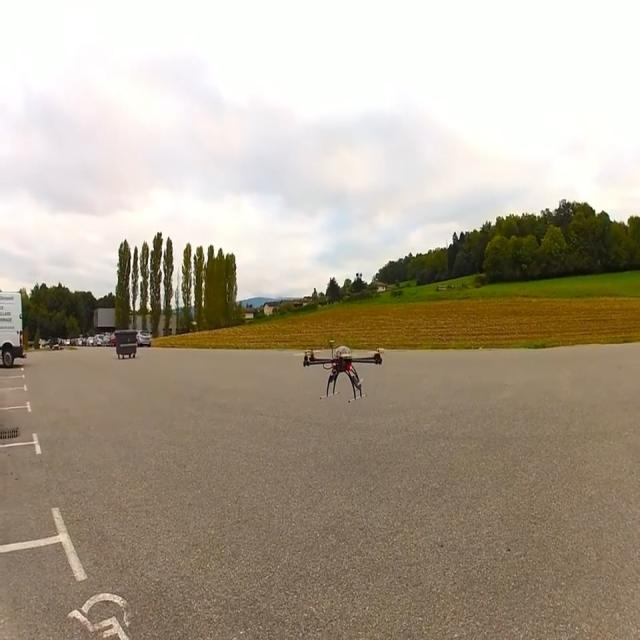drone: (302, 338, 383, 402)
